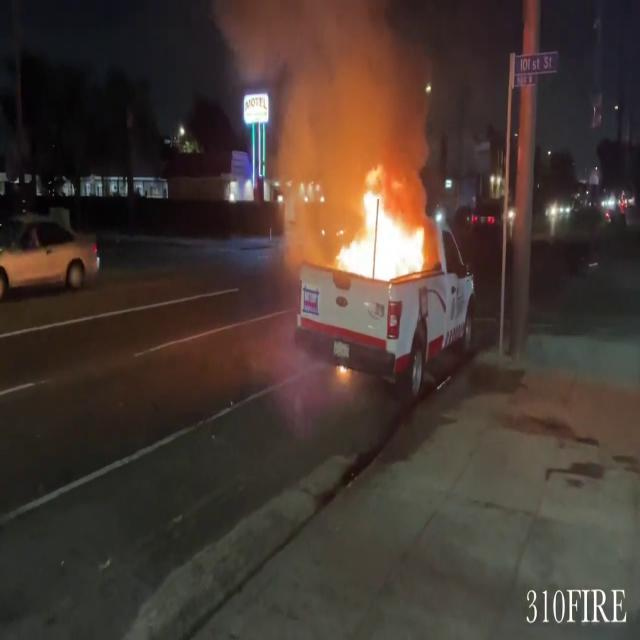Fire: (330, 162, 433, 286)
Smoke: (211, 0, 438, 166)
